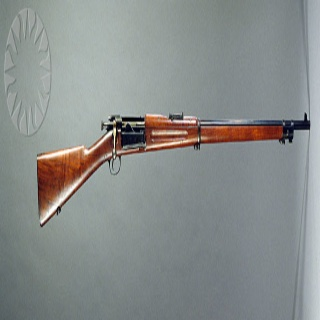rifle: (35, 108, 311, 229)
